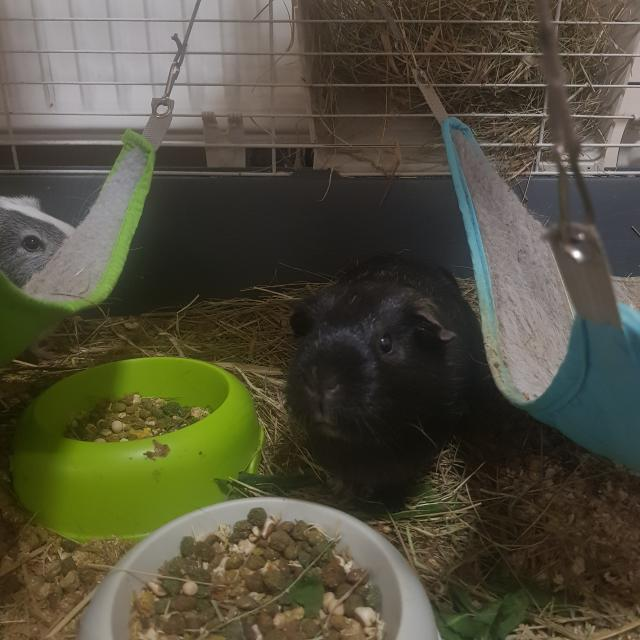guinea pig: (280, 247, 492, 510), (0, 190, 80, 291)
